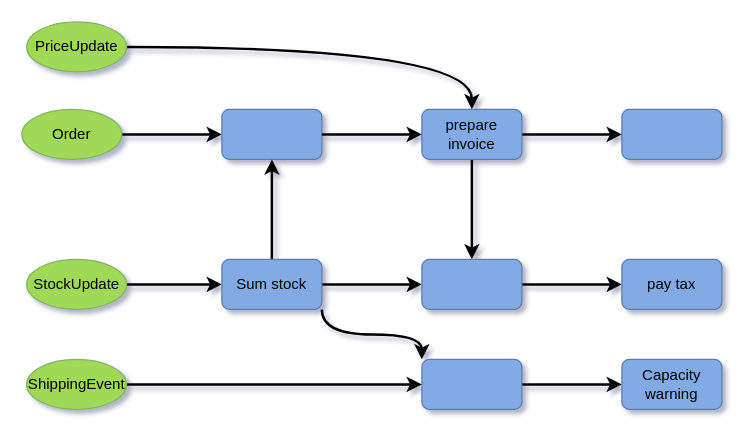
Some shapes in this 751 by 439 pixel diagram are drawn without their labels. Grey dashed boxes stand in for pictures. Here are the shapes that lost their labels. From the top down, the centre of each, then its label:
At (271,133): "Stock checker".
At (671,133): "ship order".
At (471,283): "Tax calculation".
At (471,383): "Warehouse use".
